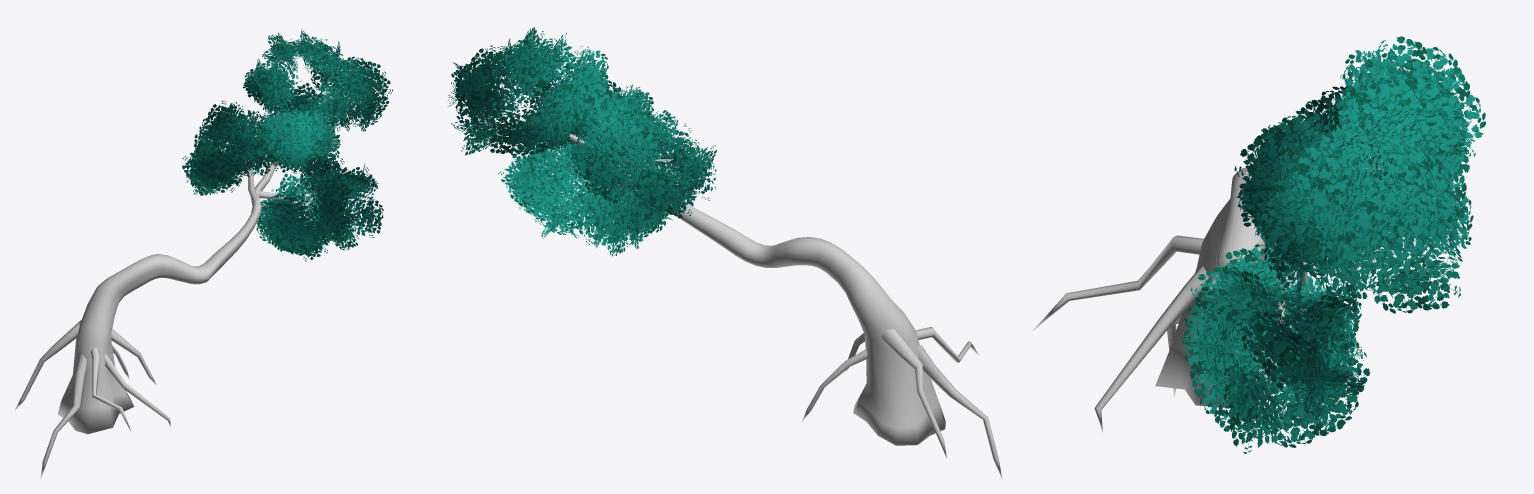
Rendered from Tree_M3.fbx.
3 renders of one model, left to right at view 1: azimuth 30°, elevation 25°; view 2: azimuth 150°, elevation 25°; view 3: azimuth 270°, elevation 25°, orthographic. The views are drawn at different scales.
Parts seen in each view (by area): view 1: Tree_M3, Tree_M3_Leaves3, Tree_M3_Leaves1, Tree_M3_Leaves2, Tree_M3_Leaves4; view 2: Tree_M3, Tree_M3_Leaves3, Tree_M3_Leaves2, Tree_M3_Leaves1, Tree_M3_Leaves4; view 3: Tree_M3_Leaves3, Tree_M3_Leaves1, Tree_M3_Leaves4, Tree_M3, Tree_M3_Leaves2.
Part boxes in pixels (bbox=[...]): Tree_M3: bbox=[14, 145, 315, 479]; Tree_M3_Leaves3: bbox=[242, 30, 392, 131]; Tree_M3_Leaves1: bbox=[256, 157, 383, 261]; Tree_M3_Leaves2: bbox=[182, 100, 274, 195]; Tree_M3_Leaves4: bbox=[257, 104, 340, 176]; Tree_M3: bbox=[564, 132, 1002, 479]; Tree_M3_Leaves3: bbox=[448, 27, 608, 155]; Tree_M3_Leaves2: bbox=[566, 109, 716, 218]; Tree_M3_Leaves1: bbox=[498, 140, 673, 256]; Tree_M3_Leaves4: bbox=[553, 80, 654, 162]; Tree_M3_Leaves3: bbox=[1284, 36, 1486, 313]; Tree_M3_Leaves1: bbox=[1178, 244, 1370, 453]; Tree_M3_Leaves4: bbox=[1234, 110, 1359, 288]; Tree_M3: bbox=[1032, 166, 1383, 433]; Tree_M3_Leaves2: bbox=[1290, 86, 1459, 210].
Bounding box in the file's own units: 1356 × 1070 × 707.
